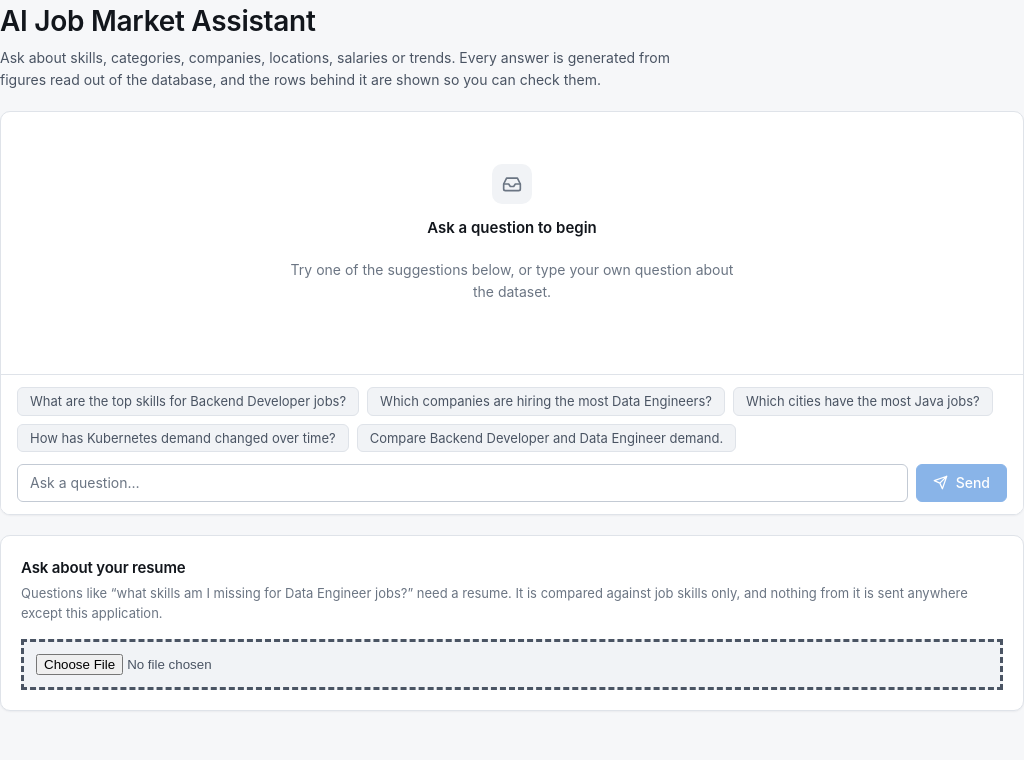
Test: AiAssistant › submits a question and shows the answer
Type "top skills" into the field named "Your question" at (462, 483), box [17,464,908,502]
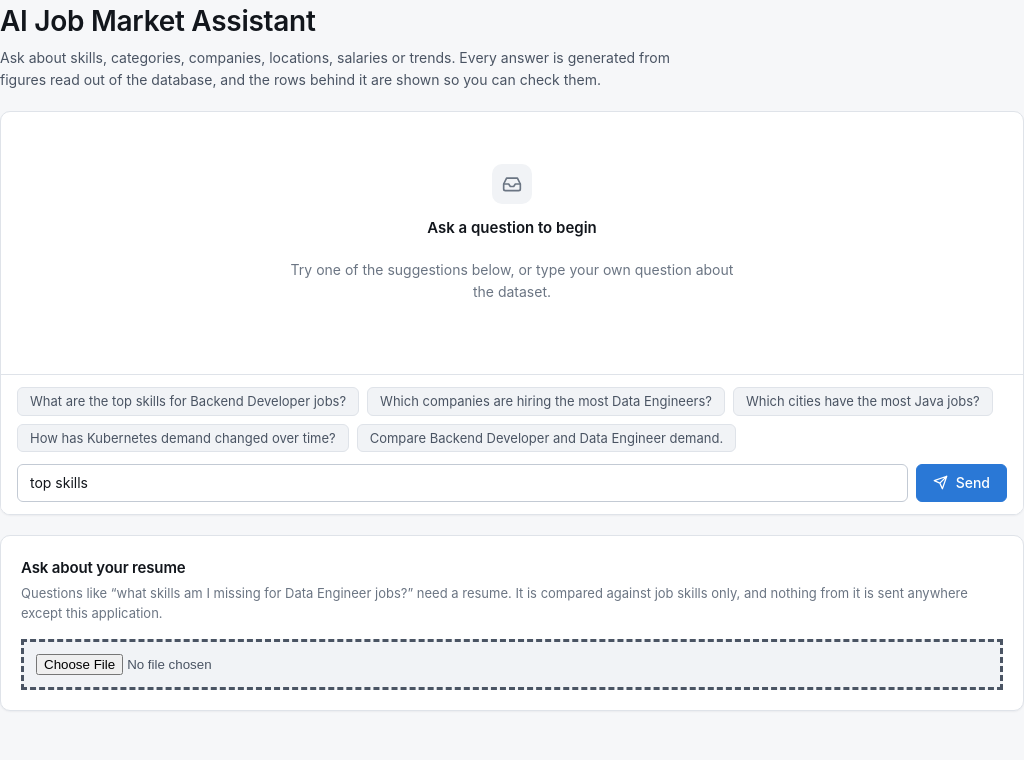
Click the button "Send" at (961, 483), box [916,464,1007,502]
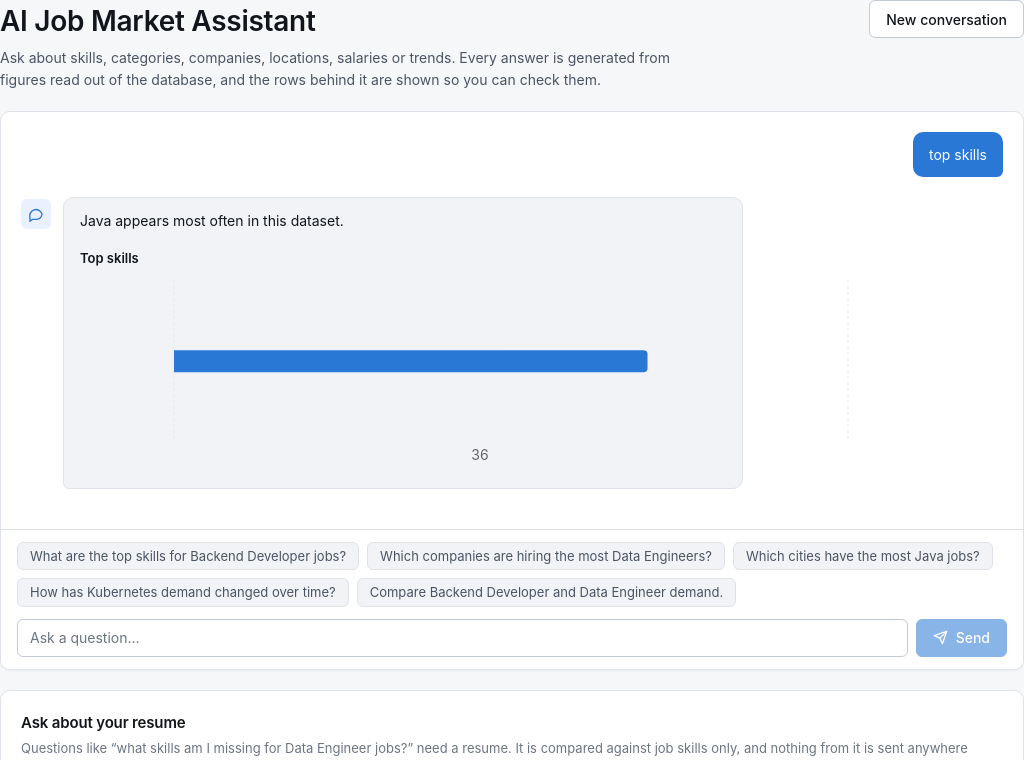
Expected: the text "Java appears most often in this dataset." is shown, [80,212,344,230]
